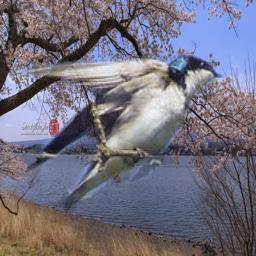Swallow: (10, 51, 224, 215)
